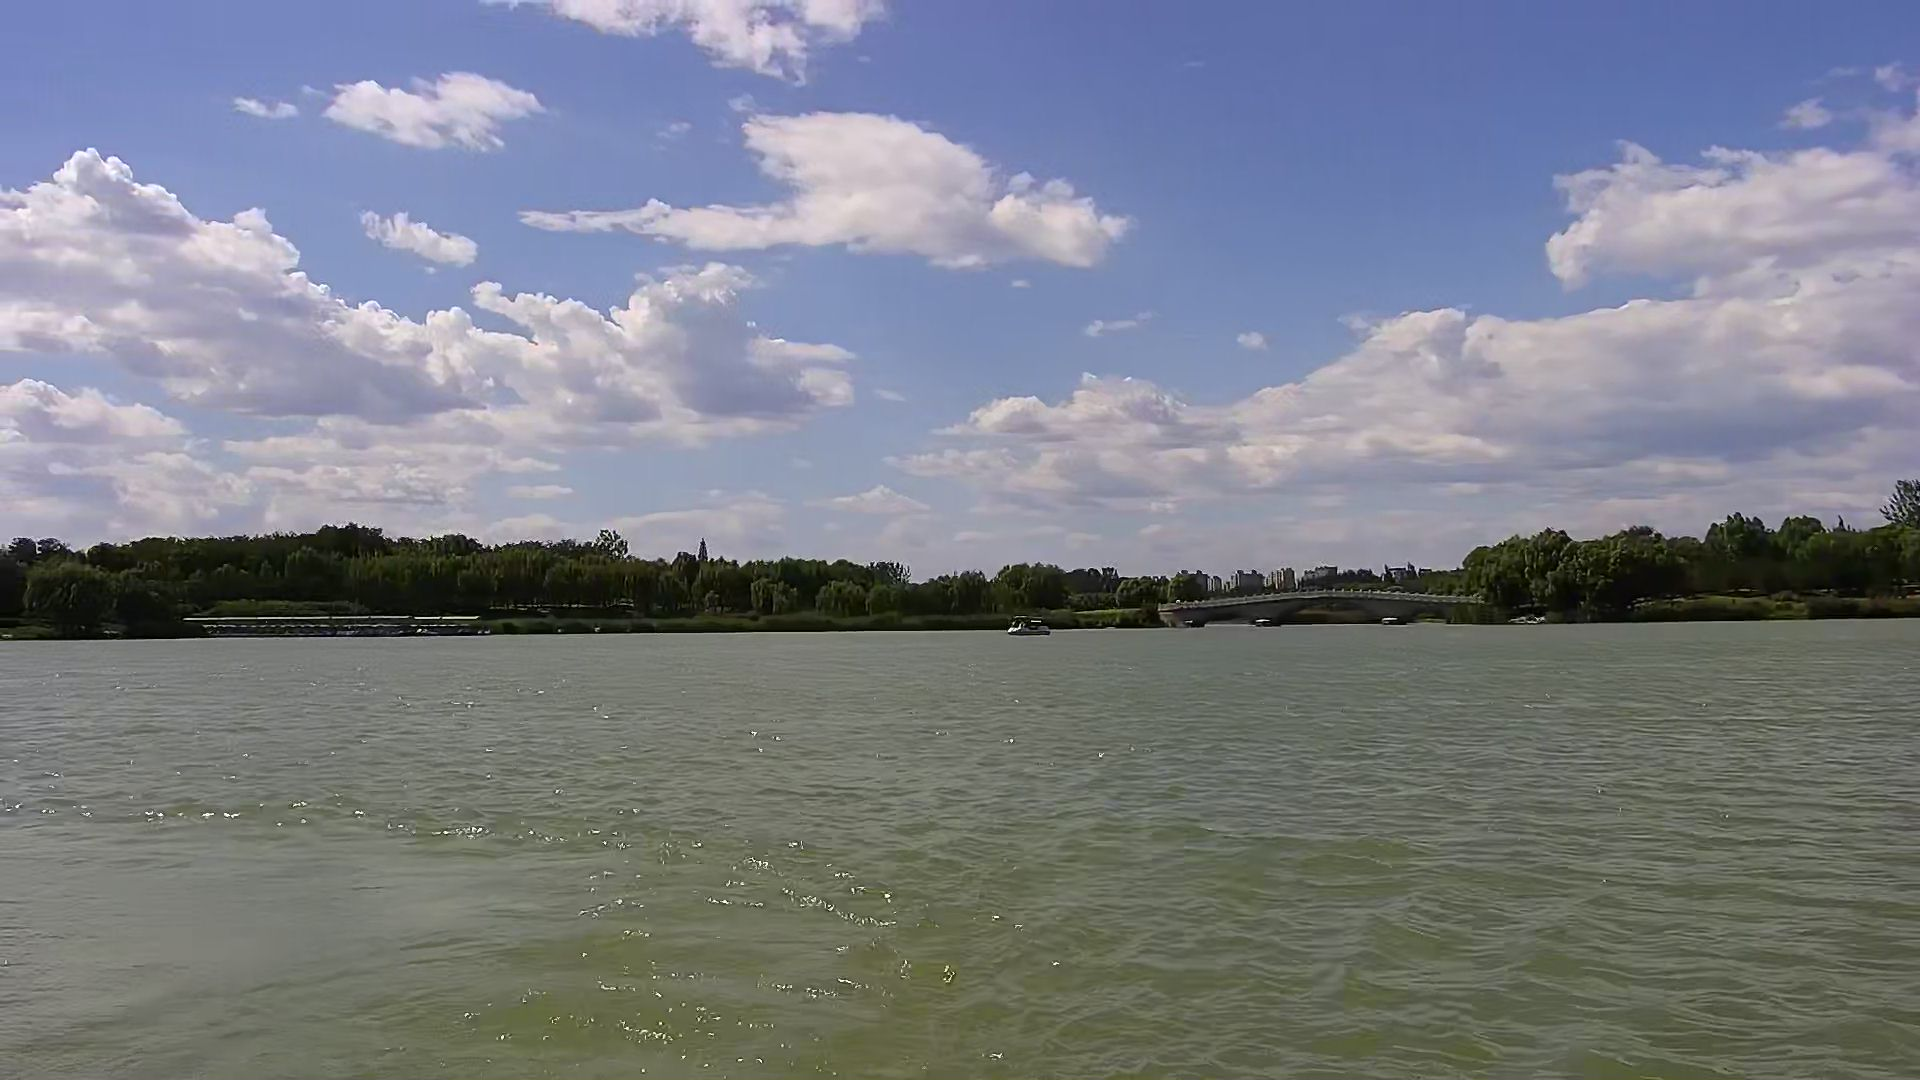boat: (1007, 615, 1052, 640)
bridge: (1159, 588, 1484, 625), (189, 616, 483, 637)
